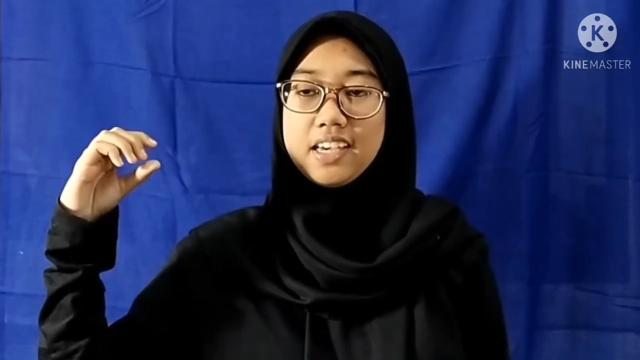C: (60, 124, 162, 226)
